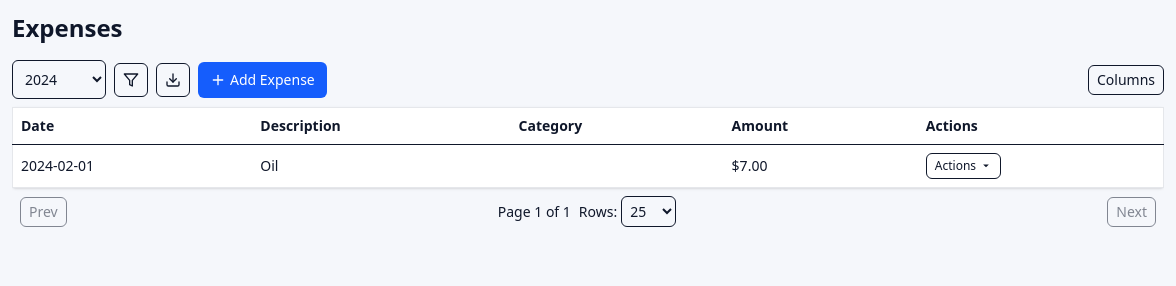
Expenses page › filters expenses by year
This screenshot has width=1176, height=286.
Check: the text "2024-02-01" is shown, box [12, 144, 252, 188]
Check: the text "2023-01-01" is not shown
Select "2023" in the dropdown named "year" at (59, 80), box [12, 60, 106, 99]
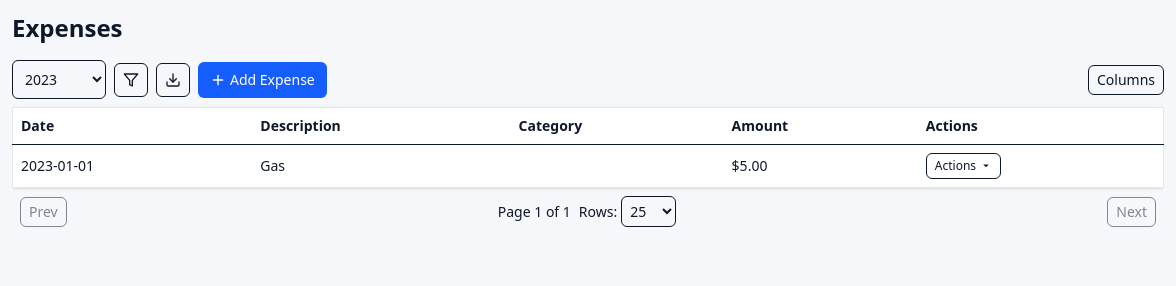
Check: the text "2023-01-01" is shown, box [12, 144, 252, 188]
Check: the text "2024-02-01" is gone
Select "All Years" in the dropdown named "year" at (59, 80), box [12, 60, 106, 99]
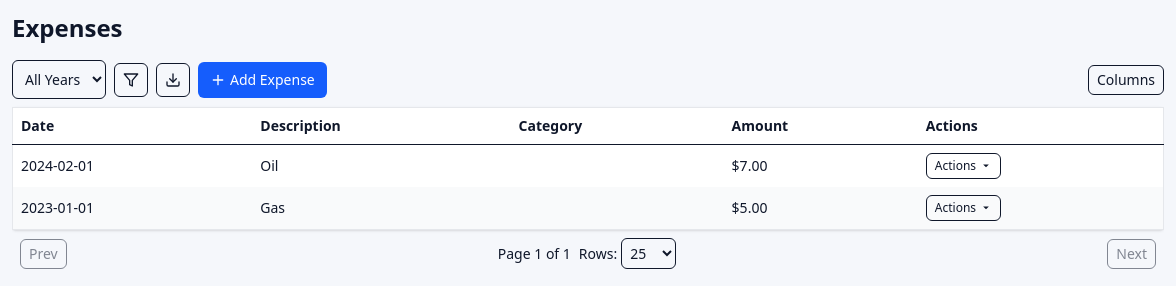
Check: the row "2023-01-01 Gas $5.00 Actions" is shown, box [12, 187, 1164, 230]
Check: the row "2024-02-01 Oil $7.00 Actions" is shown, box [12, 144, 1164, 187]
